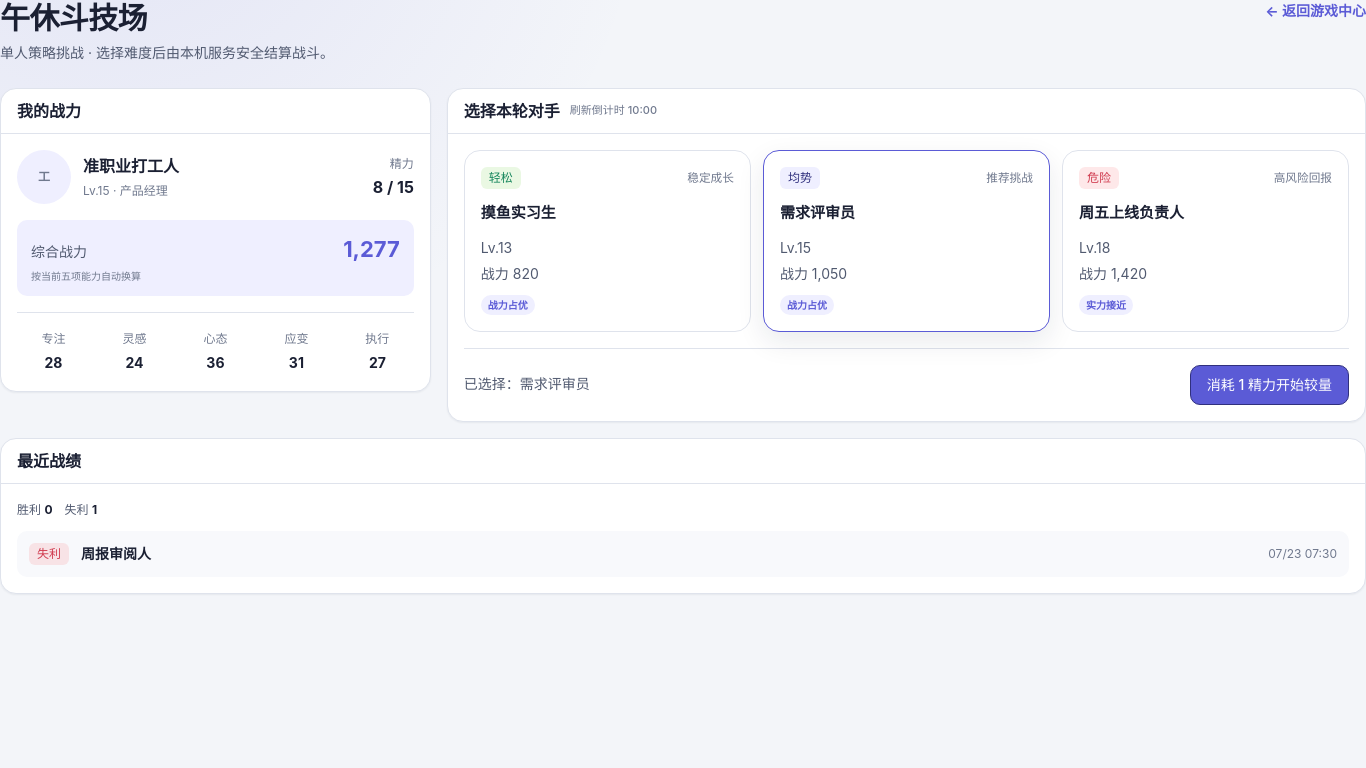
Test: ArenaPage › 战斗后刷新失败时保留结果和旧数据，并提供重新同步入口
The image size is (1366, 768).
Later steps or results of the test are not shown.
Click the button "消耗 1 精力开始较量" at (1269, 385), box x1=1190 y1=365 x2=1349 y2=405
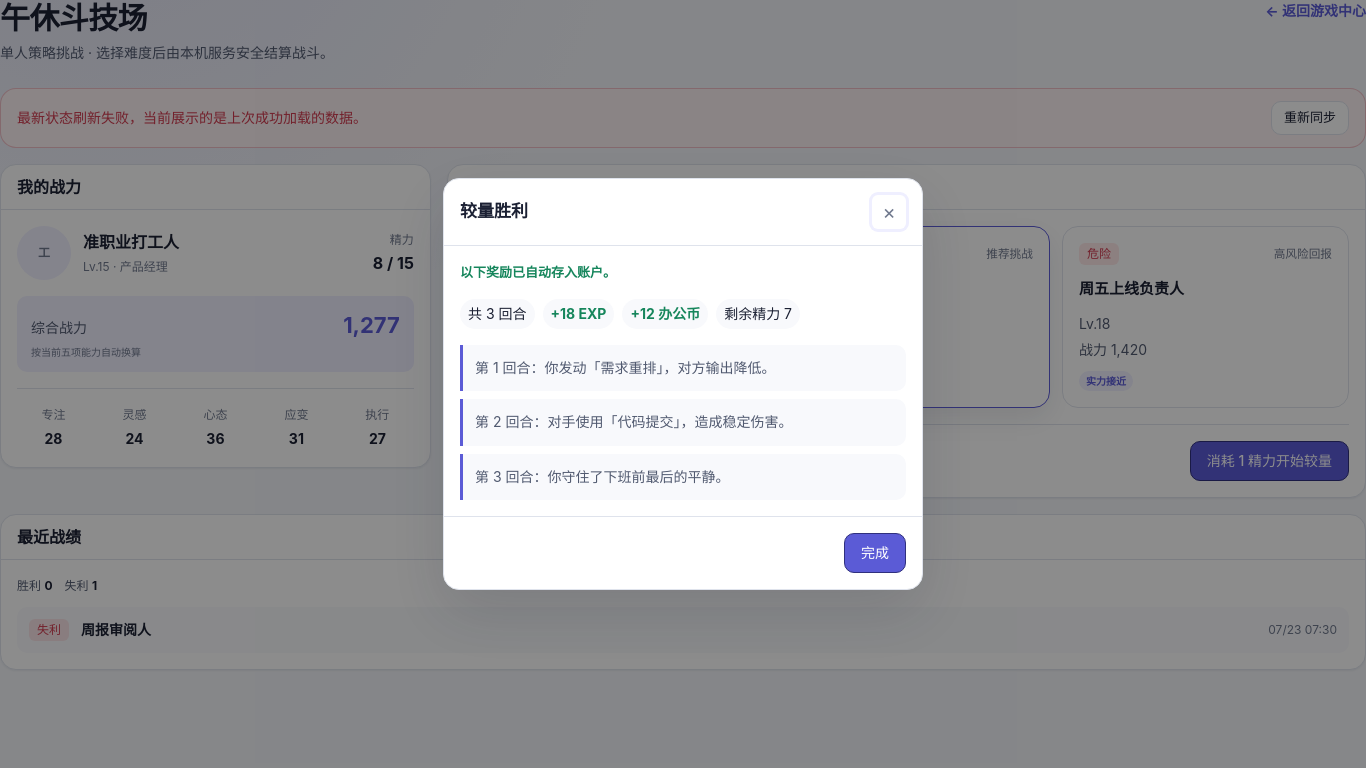
expect the text "准职业打工人" is shown: met, box x1=83 y1=232 x2=179 y2=252
expect the dialog "较量胜利" is shown: met, box x1=443 y1=178 x2=923 y2=590
expect the message shows "最新状态刷新失败": met, box x1=17 y1=109 x2=367 y2=126
